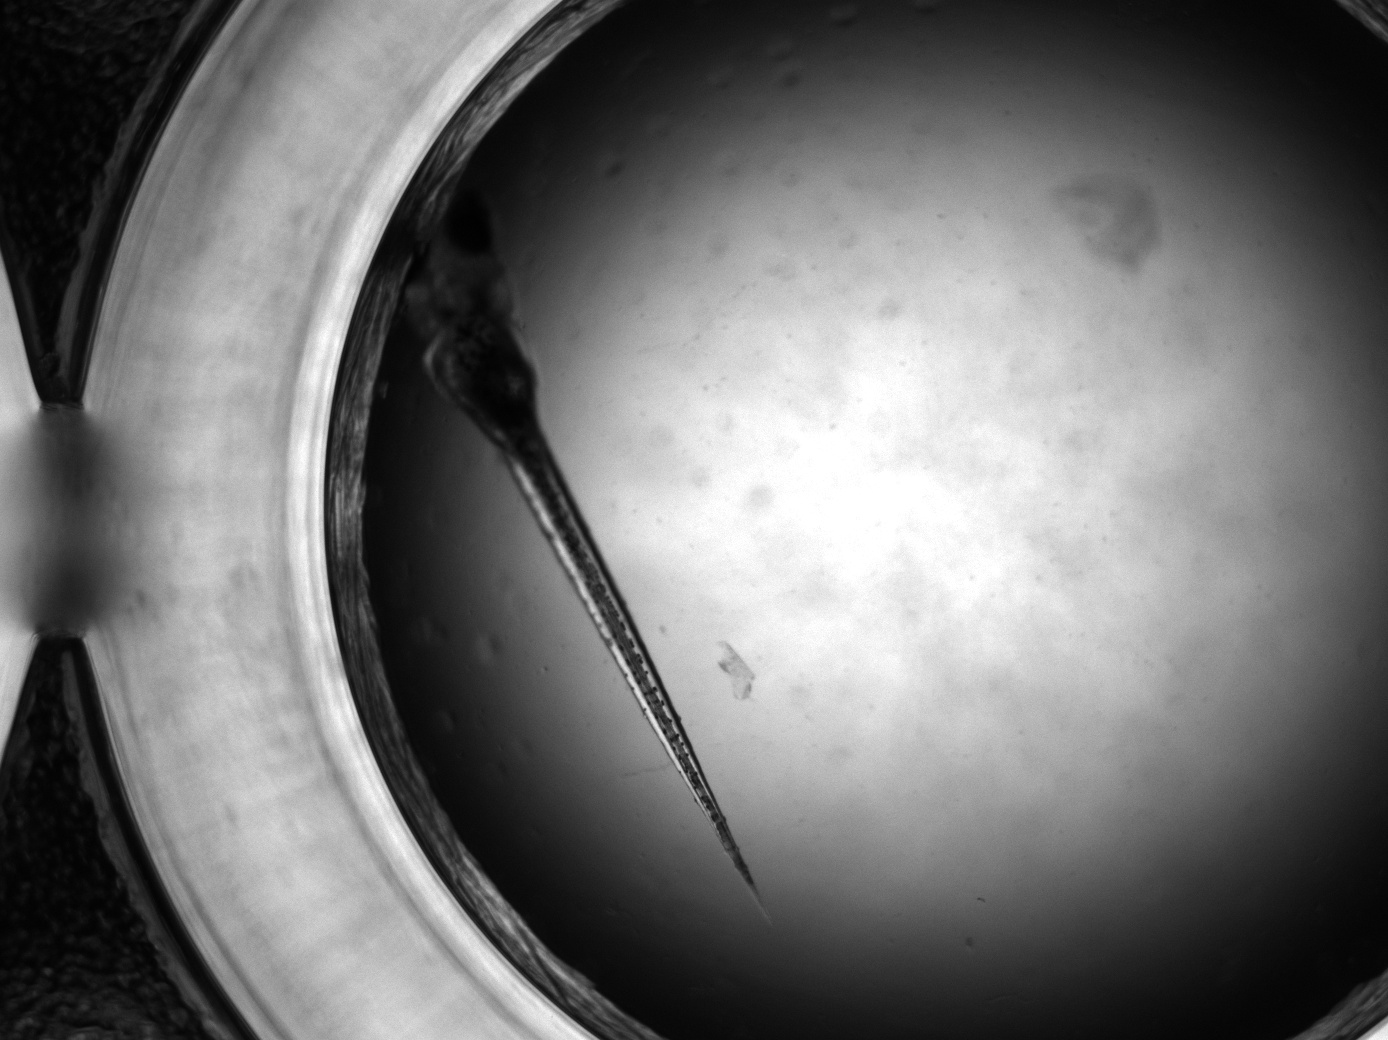embryo: (399, 190, 774, 927)
eye: (440, 190, 496, 253)
yolksac: (427, 314, 545, 456)
